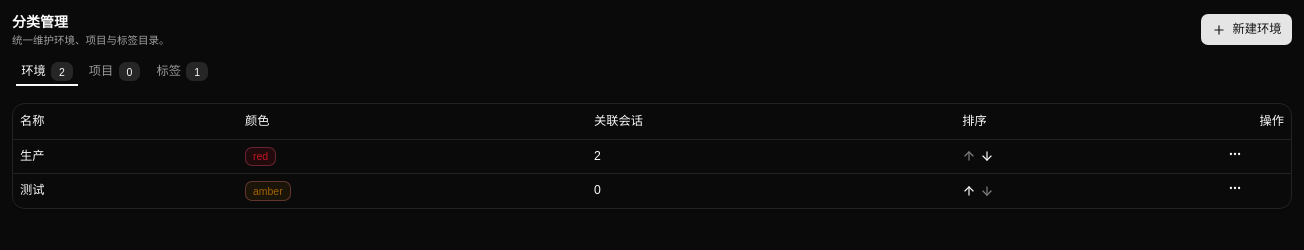
Test: SessionAssetCatalogManager › shows reorder failures inline without error toast
The width and height of the screenshot is (1304, 250).
Click the button named "下移 生产" at (987, 156), box top-left (980, 149), bottom-right (994, 163)
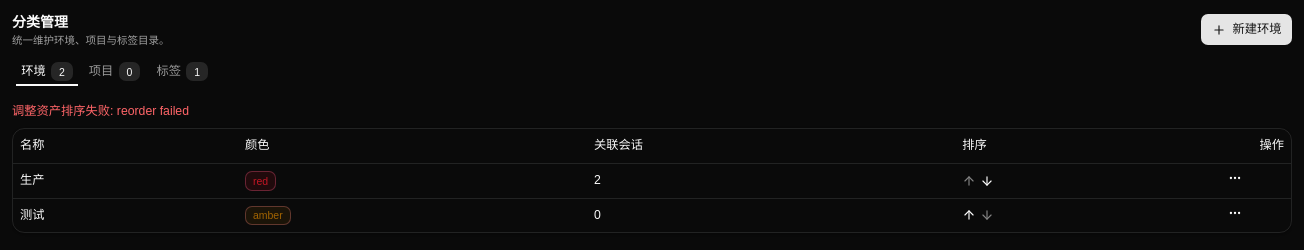
Now the message reads "调整资产排序失败: reorder failed", box top-left (12, 104), bottom-right (189, 118)
